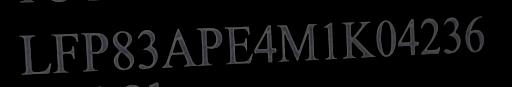letter: (276, 19, 322, 62), (339, 17, 377, 62), (160, 24, 198, 69), (16, 32, 54, 75), (48, 30, 82, 77), (77, 29, 109, 74), (195, 23, 225, 70), (222, 25, 256, 66), (252, 22, 280, 67), (416, 15, 444, 58), (108, 29, 136, 72), (374, 14, 398, 63), (463, 12, 489, 57), (395, 14, 421, 59), (134, 28, 160, 71), (440, 15, 462, 60), (321, 19, 339, 62)
